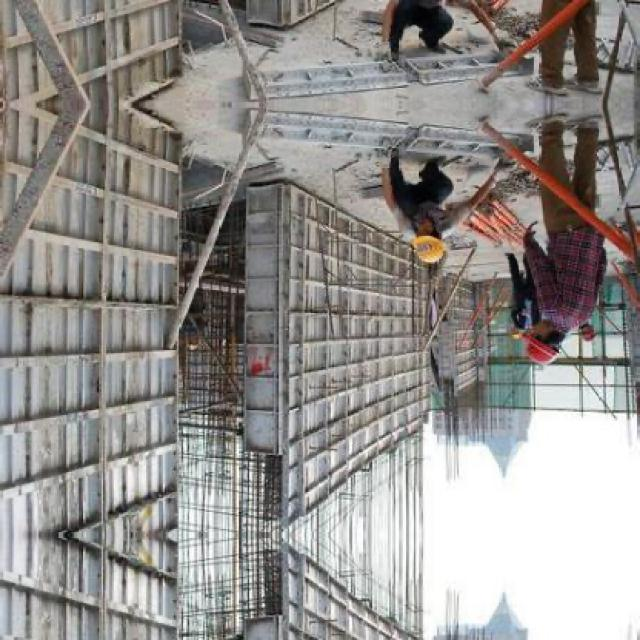con casco: (515, 312, 576, 379), (395, 218, 449, 281)
